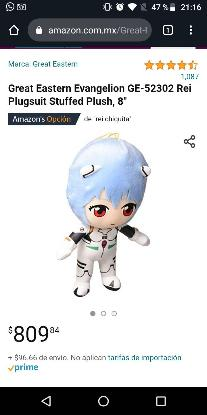rei-plush: (56, 134, 155, 295)
